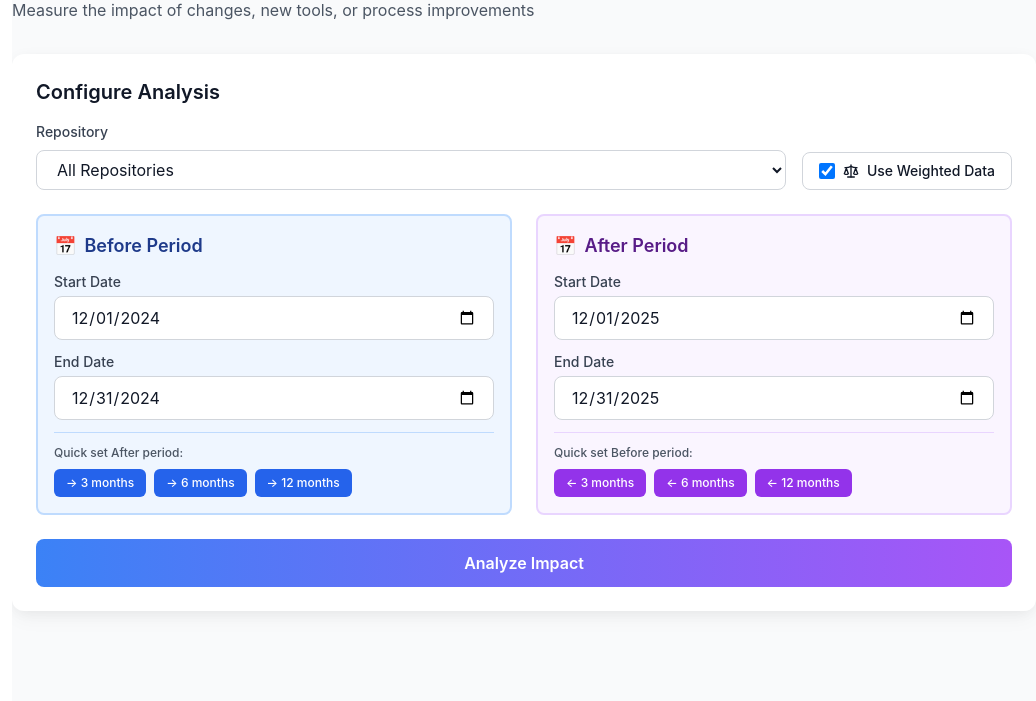
it: BeforeAfter › Weighted Data Toggle › should display effective commits value when weighted toggle is on
The width and height of the screenshot is (1036, 701).
Note: Click Analyze button
Click the button "Analyze Impact".
click(524, 563)  # box [36,539,1012,587]
(page scrolled)
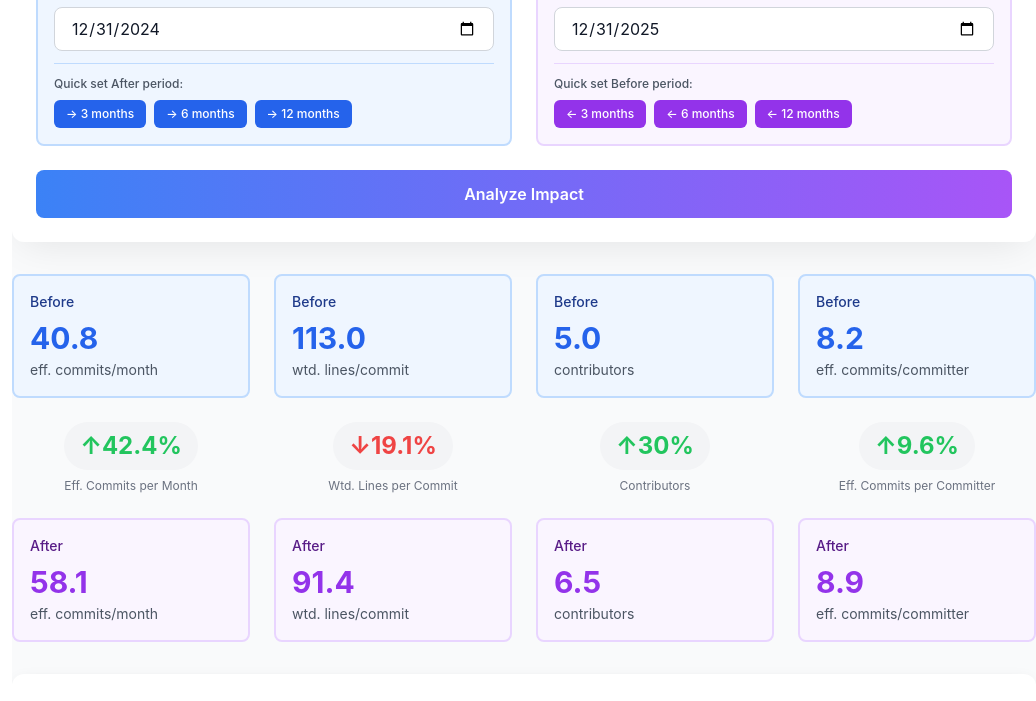
Check: the text "40.8" is shown, box [30,320,98,356]
